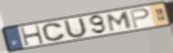9: (88, 14, 108, 35)
C: (41, 22, 67, 42)
H: (19, 23, 46, 47)
M: (106, 10, 133, 33)
P: (129, 7, 151, 29)
U: (64, 16, 89, 39)
